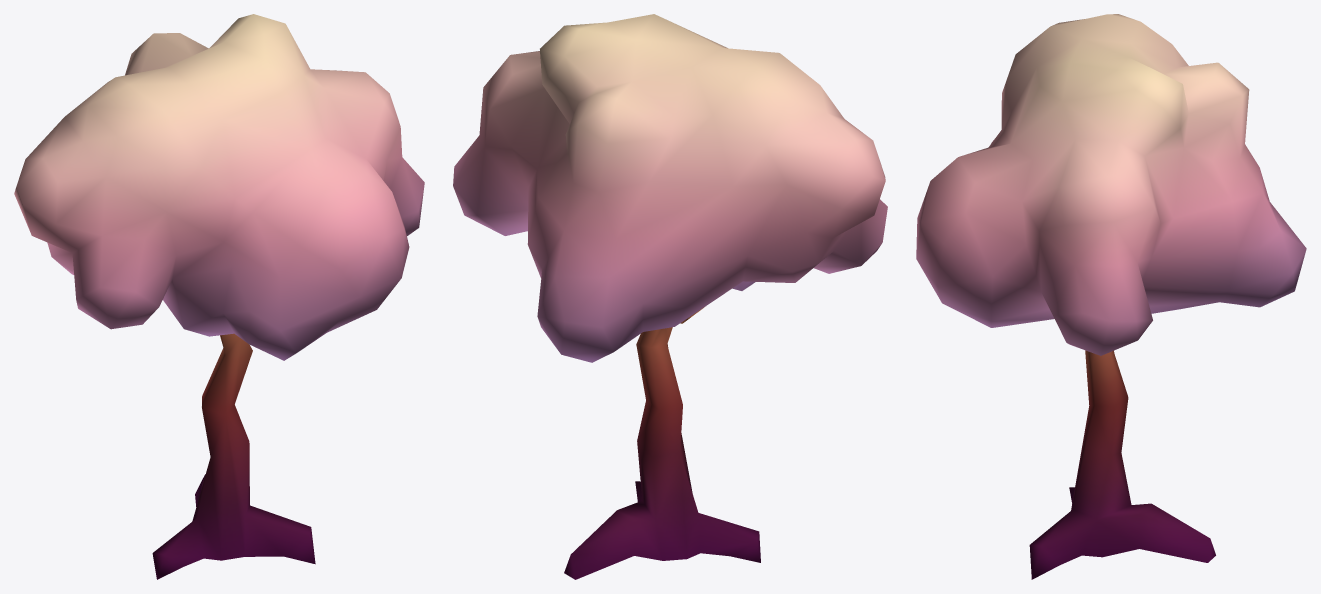
File: W2_TREE.fbx
3 renders of one model, left to right at view 1: azimuth 30°, elevation 25°; view 2: azimuth 150°, elevation 25°; view 3: azimuth 270°, elevation 25°, orthographic. The views are drawn at different scales.
Visible parts, largest first — view 1: W2_TREE; view 2: W2_TREE; view 3: W2_TREE.
Part boxes in pixels (<box>): W2_TREE: <box>14,14,424,579</box>; W2_TREE: <box>453,14,887,579</box>; W2_TREE: <box>916,14,1306,579</box>.
Bounding box in the file's own units: 469 × 564 × 391.
